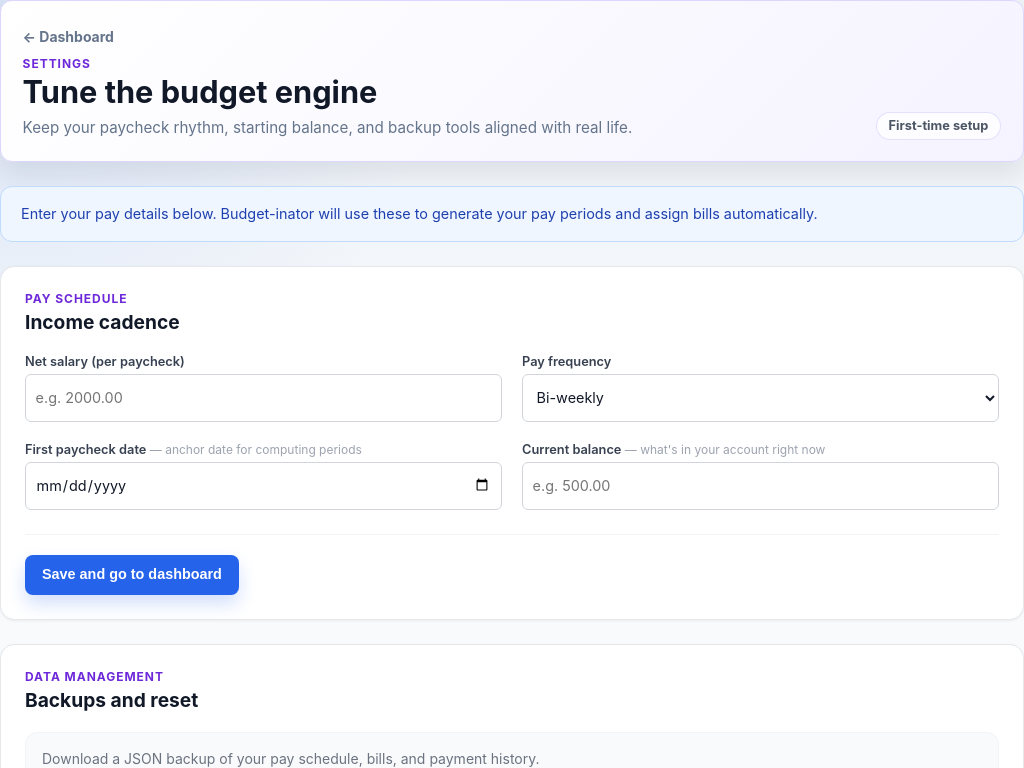
Scenario: SettingsPage › shows validation errors when submitted with empty fields
Click the button "Save and go to dashboard": x=132, y=575 [25,555,239,595]
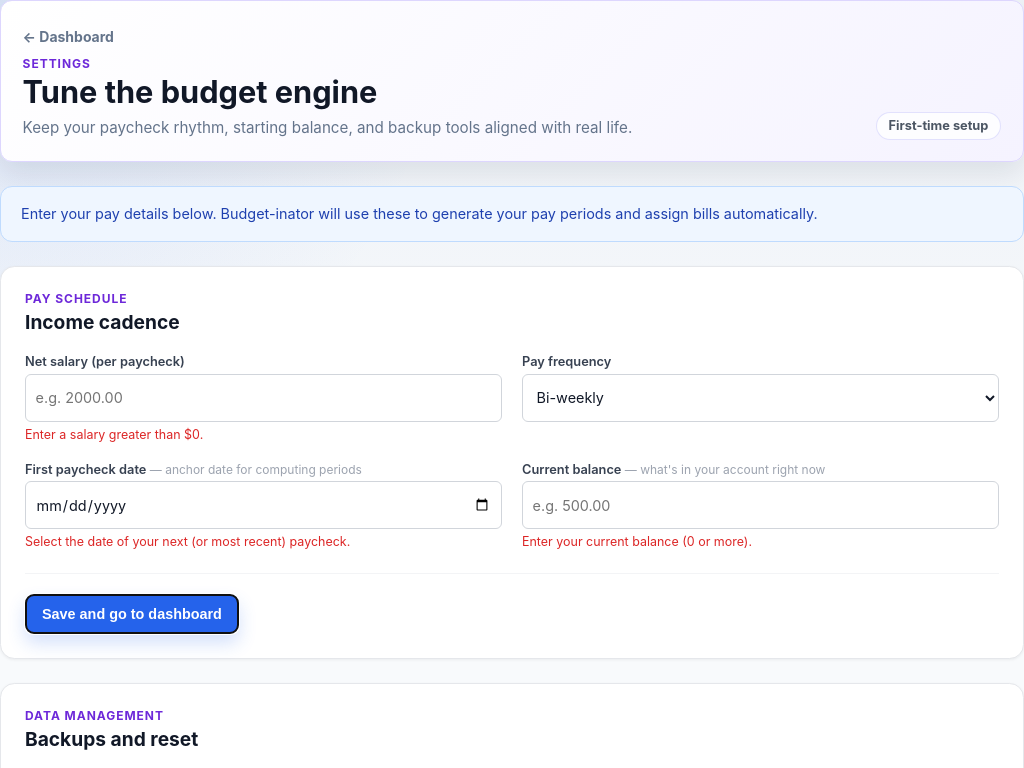
Now the text "Enter a salary greater than $0." is shown, box [25,427,203,442]
Now the text "Enter your current balance (0 or more)." is shown, box [522,534,752,549]
Now the text "Select the date of your next (or most recent) paycheck." is shown, box [25,534,350,549]
